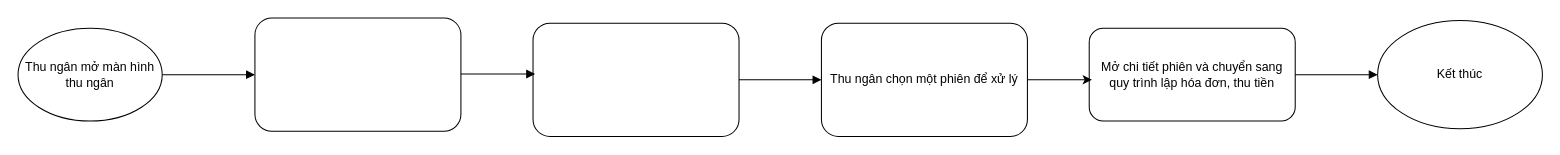
The diagram is 1560 pixels wide and 155 high, and some of its shapes have lost their labels. The box of each missing label's shape, as (x1, y1, x2, y2) in pixels:
Hệ thống lấy danh sách các phiên đang muốn thanh toán: (254, 17, 461, 131)
Thu ngân nhập số bàn để lọc danh sách: (532, 22, 739, 136)
